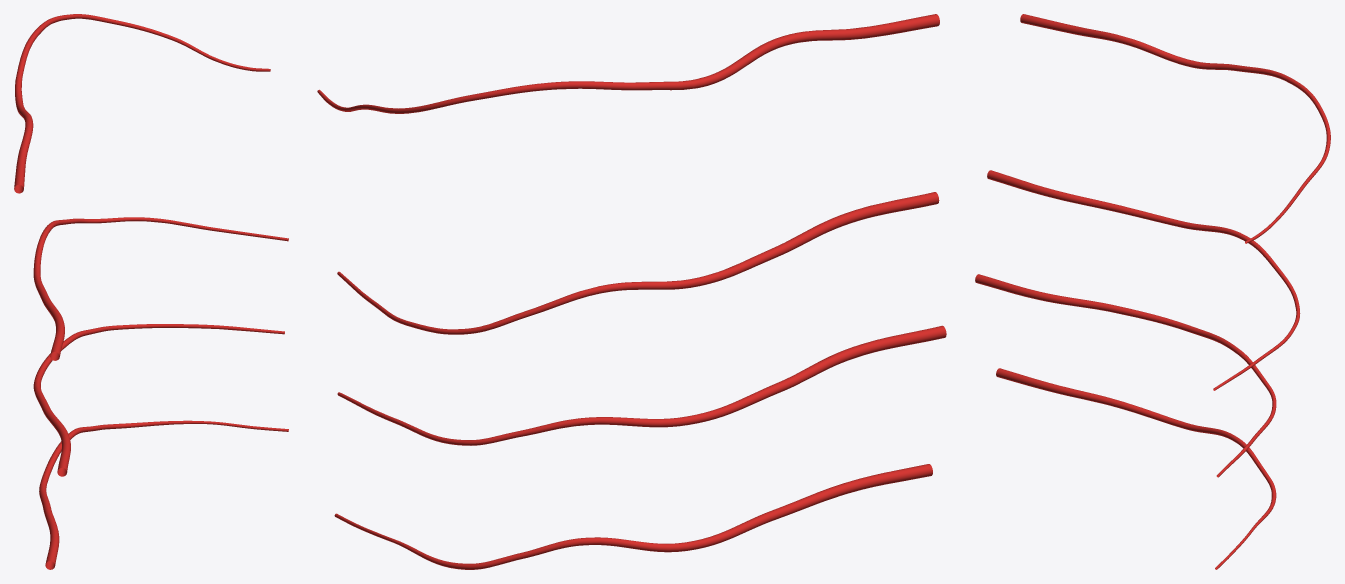
File: circulatorio-lumbar-arteries-l.glb
3 renders of one model, left to right at view 1: azimuth 30°, elevation 25°; view 2: azimuth 150°, elevation 25°; view 3: azimuth 270°, elevation 25°, orthographic. The views are drawn at different scales.
Parts seen in each view (by area): view 1: Lumbar arteries.l; view 2: Lumbar arteries.l; view 3: Lumbar arteries.l.
Part boxes in pixels (box(x1,y1,x2,y2)): Lumbar arteries.l: box(14, 14, 288, 569); Lumbar arteries.l: box(317, 14, 946, 569); Lumbar arteries.l: box(975, 14, 1330, 569).
Bounding box in the file's own units: 0.088 × 0.0947 × 0.0771.
